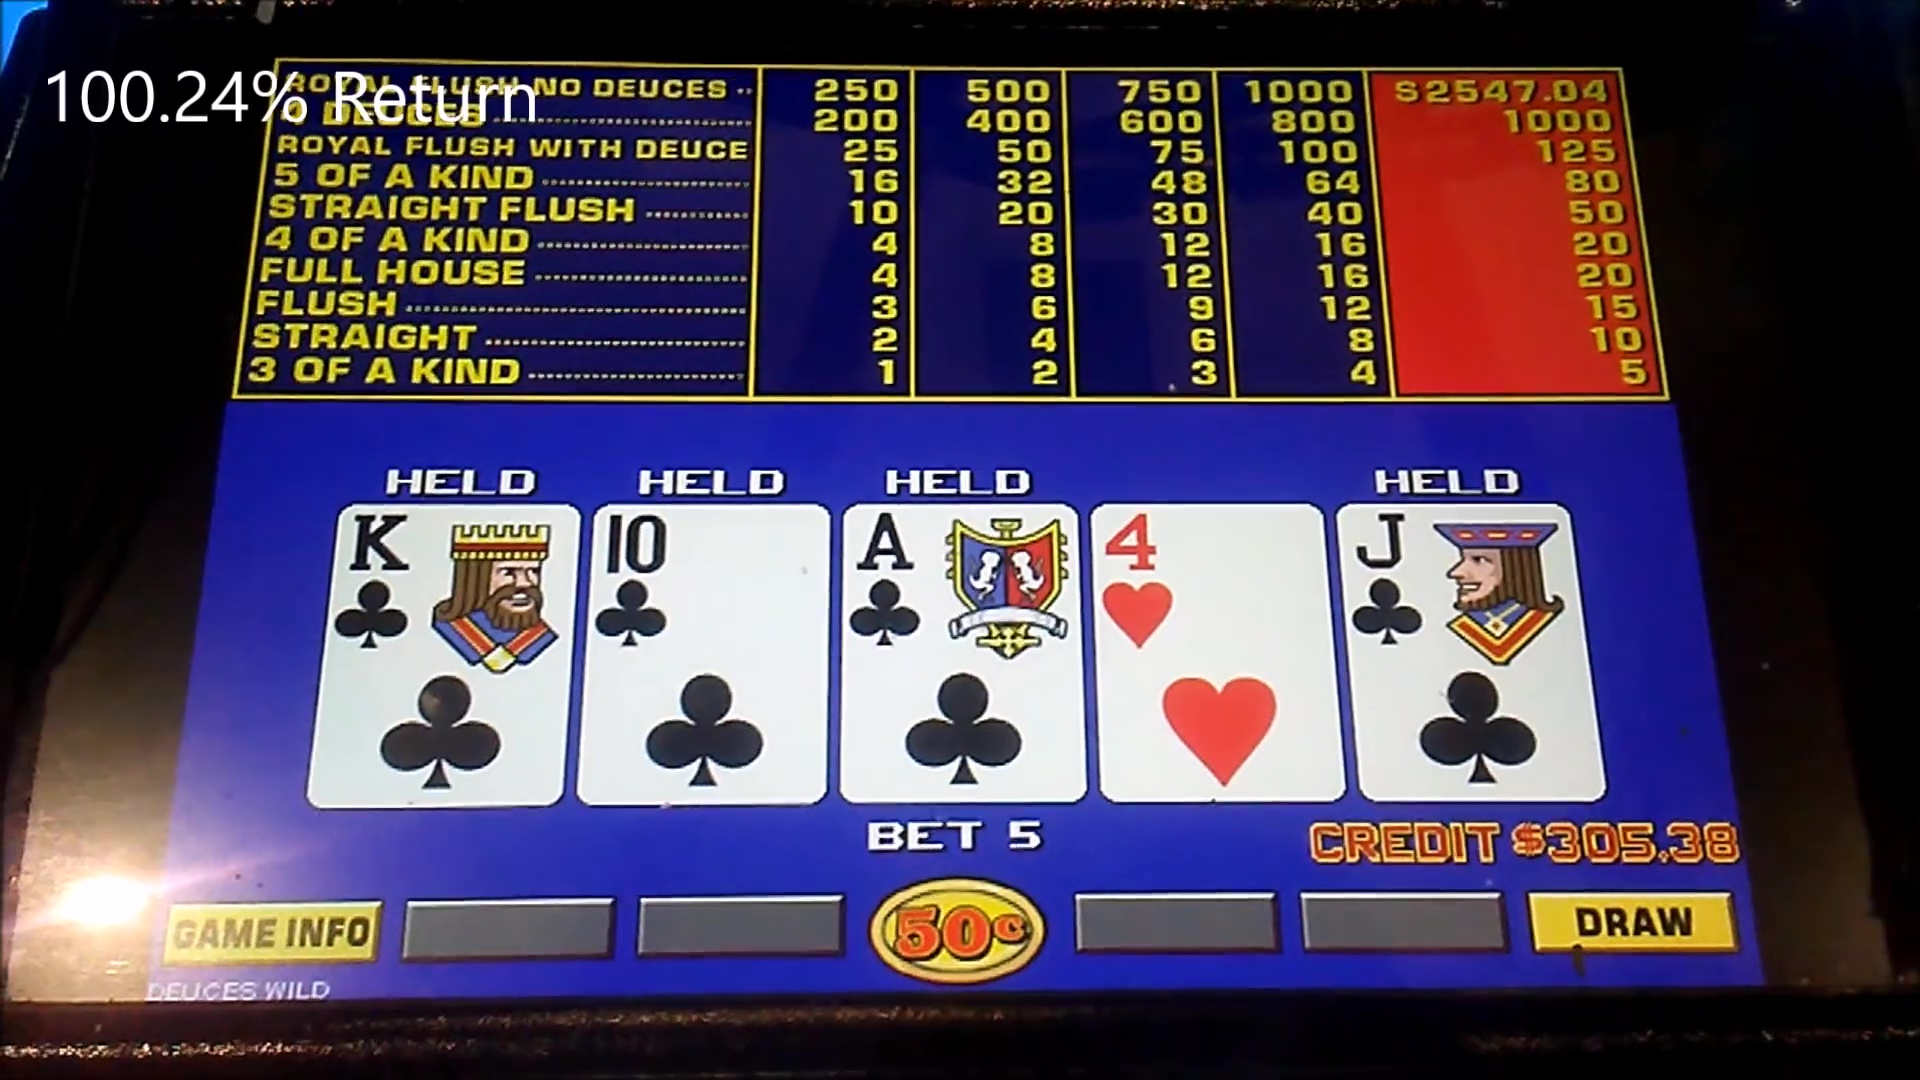CA: (847, 502, 1088, 667)
CJ: (1353, 502, 1576, 665)
CK: (328, 506, 564, 673)
CT: (588, 505, 825, 670)
H4: (1098, 501, 1328, 665)
